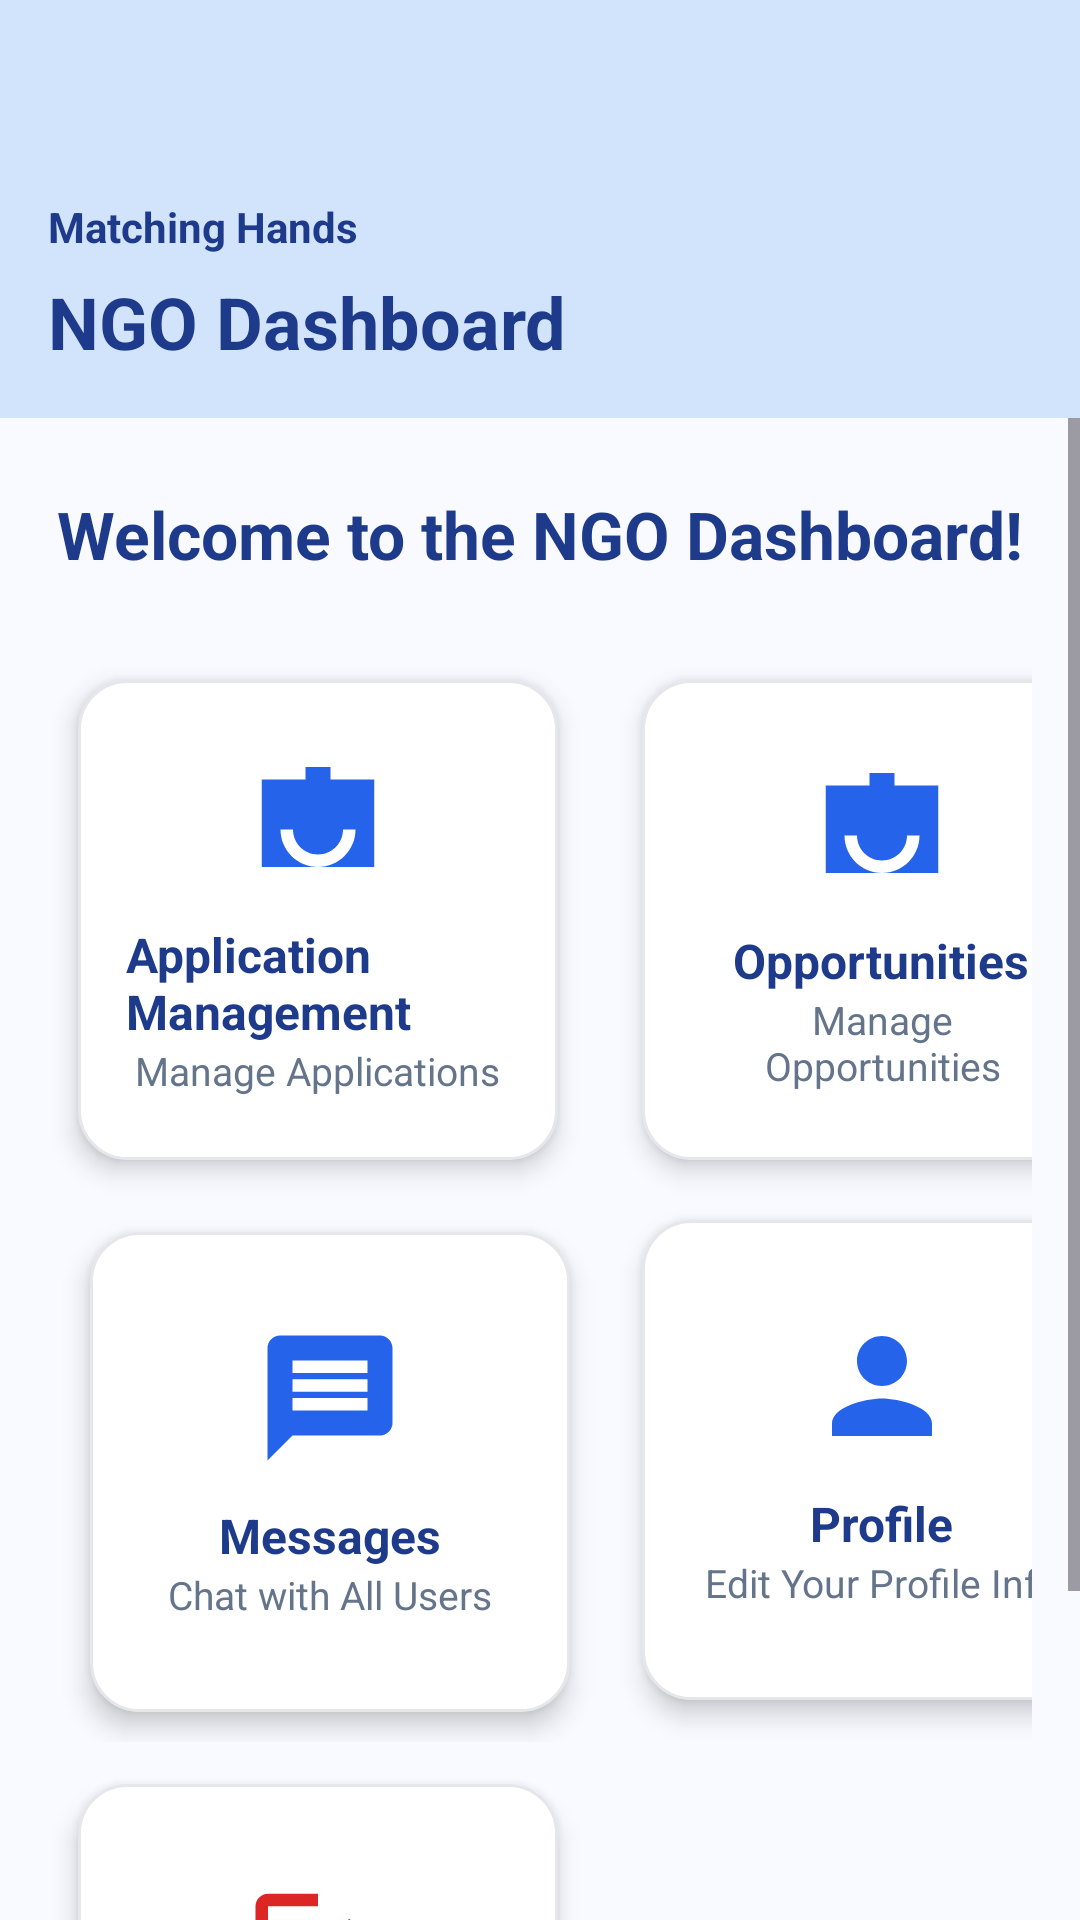

Named icons in this screenshot (1080*1920) and their bounding boxes, (x1, y1, x2, y2):
person: (832, 1336, 932, 1436)
work: (261, 767, 375, 867), (825, 773, 939, 873)
